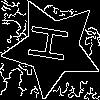H: (27, 22, 78, 65)
